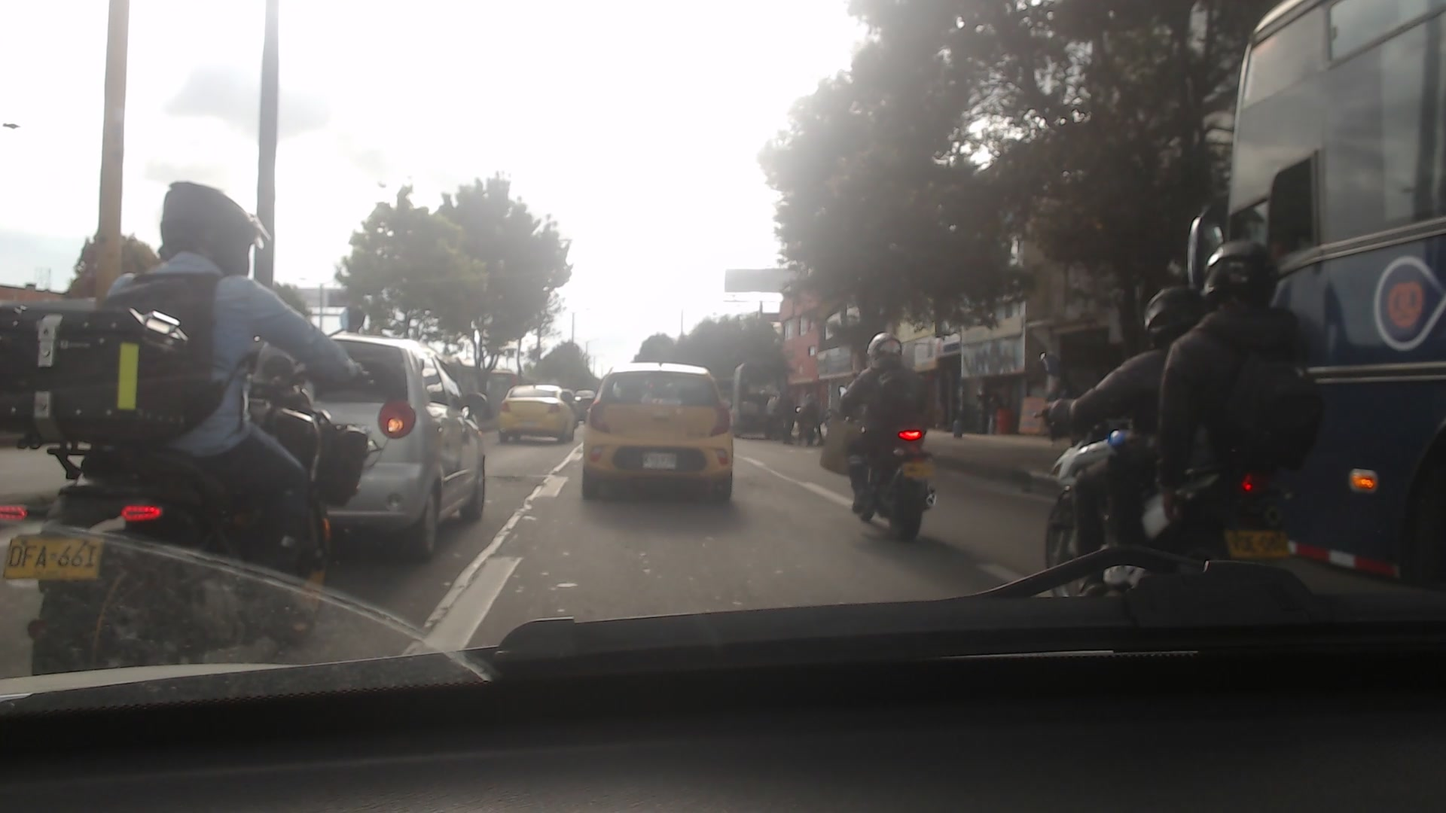car: (284, 329, 503, 551), (577, 360, 743, 509), (497, 381, 571, 447)
motorcycle: (0, 380, 374, 678)
person: (98, 170, 333, 619), (1170, 226, 1316, 521), (1041, 280, 1199, 501), (831, 327, 925, 502)
